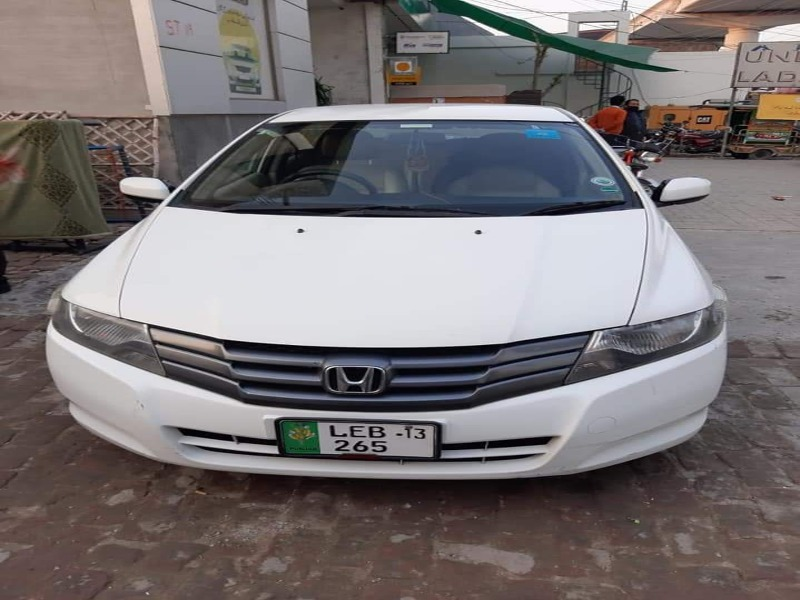License Plate: (275, 416, 444, 467)
